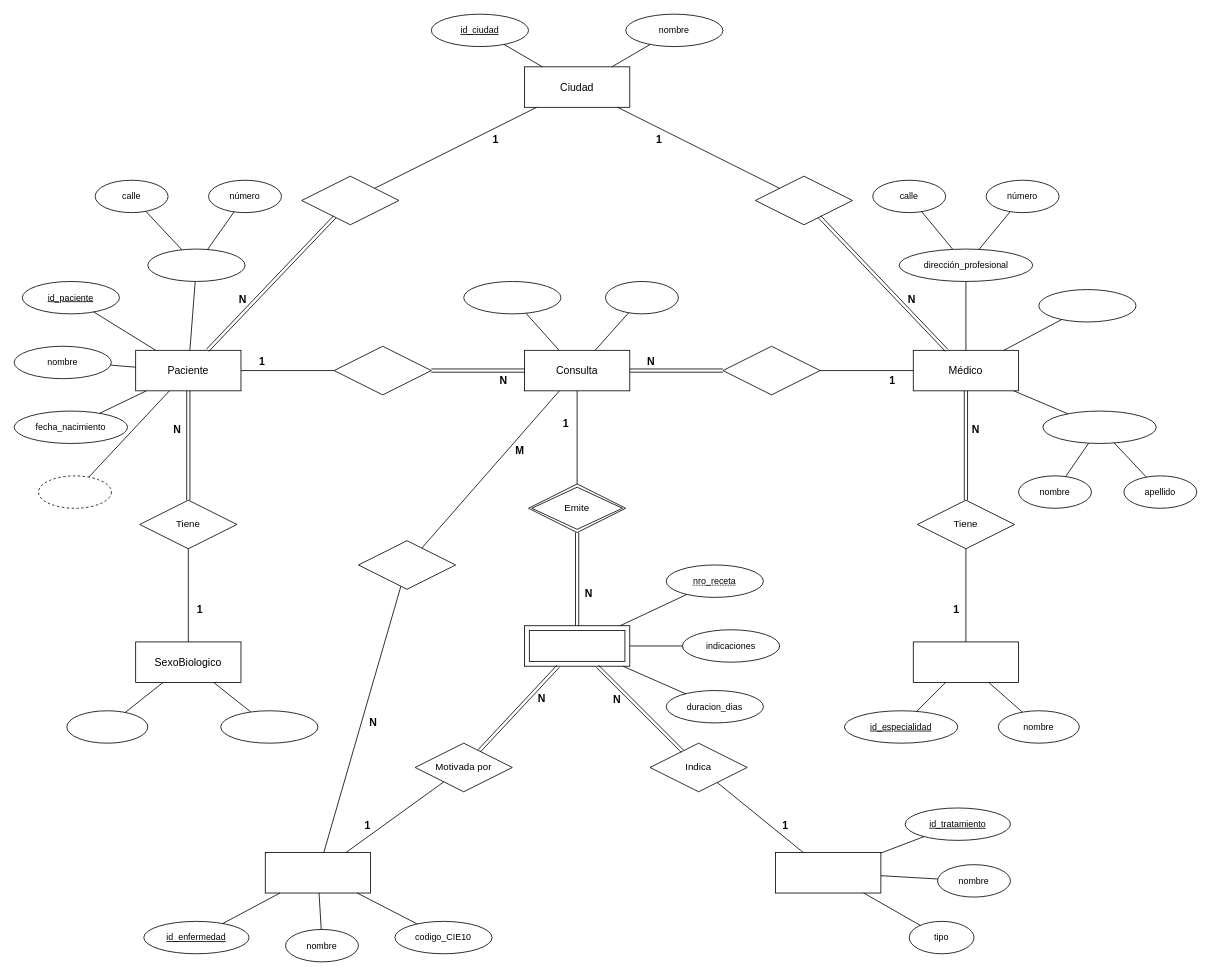
Some shapes in this 1211 by 976 pixel diagram are drawn without their labels. Each missing label, with the centre of its shape:
Atiende en: the point at 804,200
descripcion: the point at 269,726
Diagnostica: the point at 407,564
dirección: the point at 196,264
edad: the point at 74,491
Enfermedad: the point at 317,872
Especialidad: the point at 965,661
fecha: the point at 641,297
id_consulta: the point at 512,297
id_medico: the point at 1087,305
id_sexo: the point at 107,726
nombre_completo: the point at 1099,426
Realiza: the point at 771,370
Receta: the point at 577,645
Recibe: the point at 382,370
Reside en: the point at 350,200
Tratamiento: the point at 828,872
